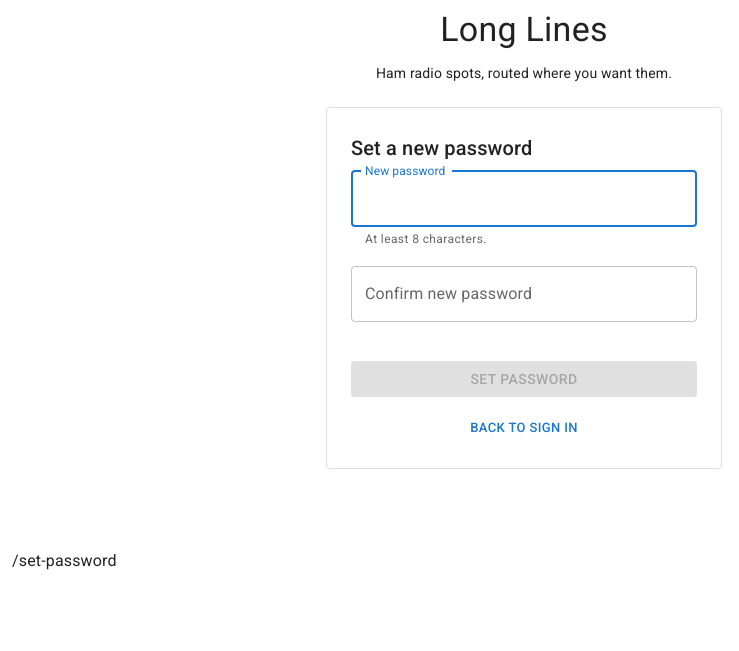
Test: SetPasswordPage › shows the update error
Type "hunter22" into the password field labelled "New password" at {"x": 524, "y": 199}, box [351, 171, 697, 227]
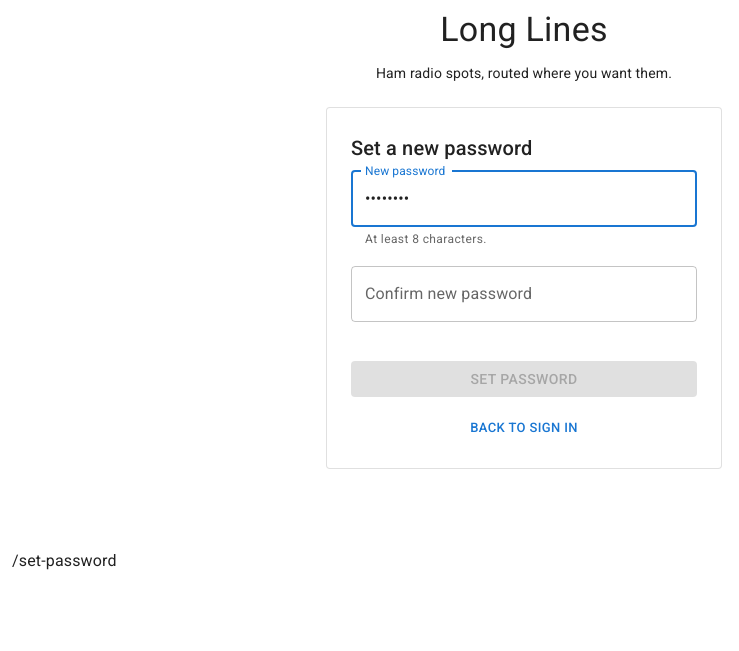
Type "hunter22" into the password field labelled "Confirm new password" at {"x": 524, "y": 294}, box [351, 266, 697, 322]
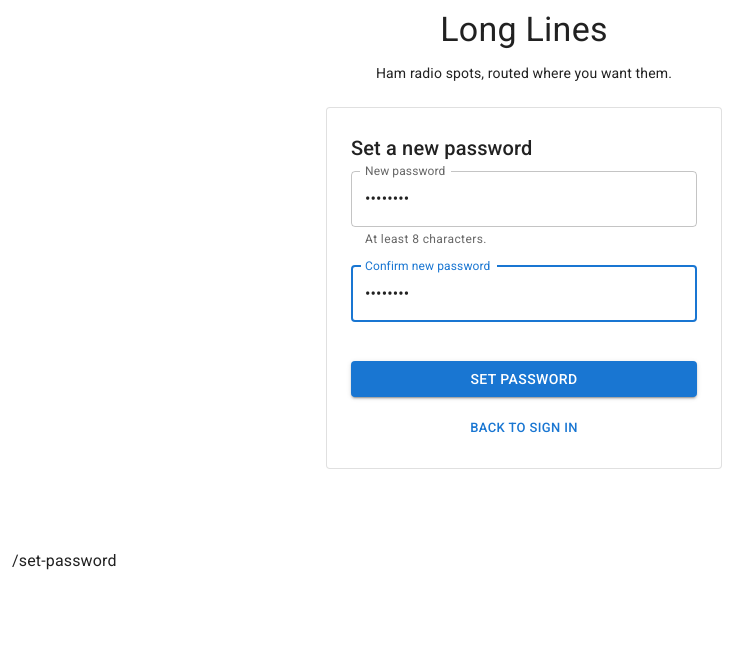
Click the button "Set password" at {"x": 524, "y": 379}, box [351, 361, 697, 397]
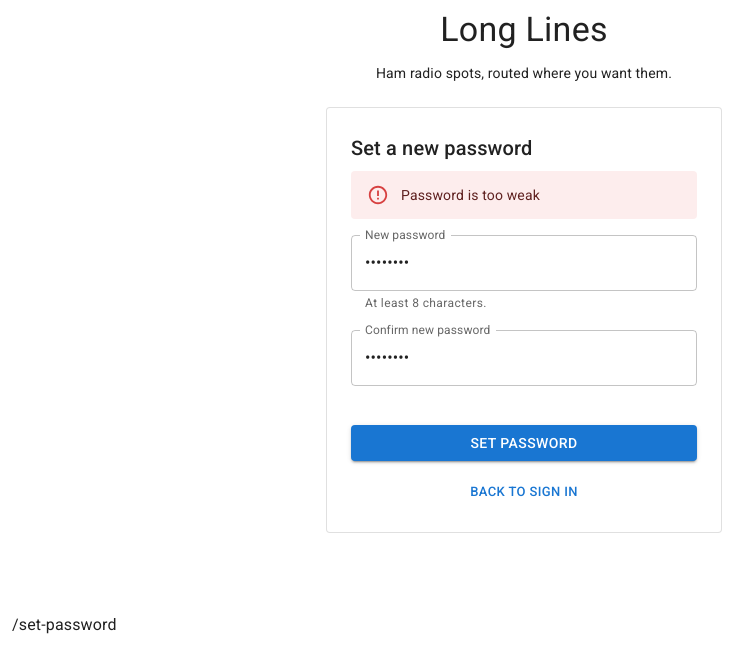
expect the text "Password is too weak" is shown: met, box [401, 187, 540, 203]
